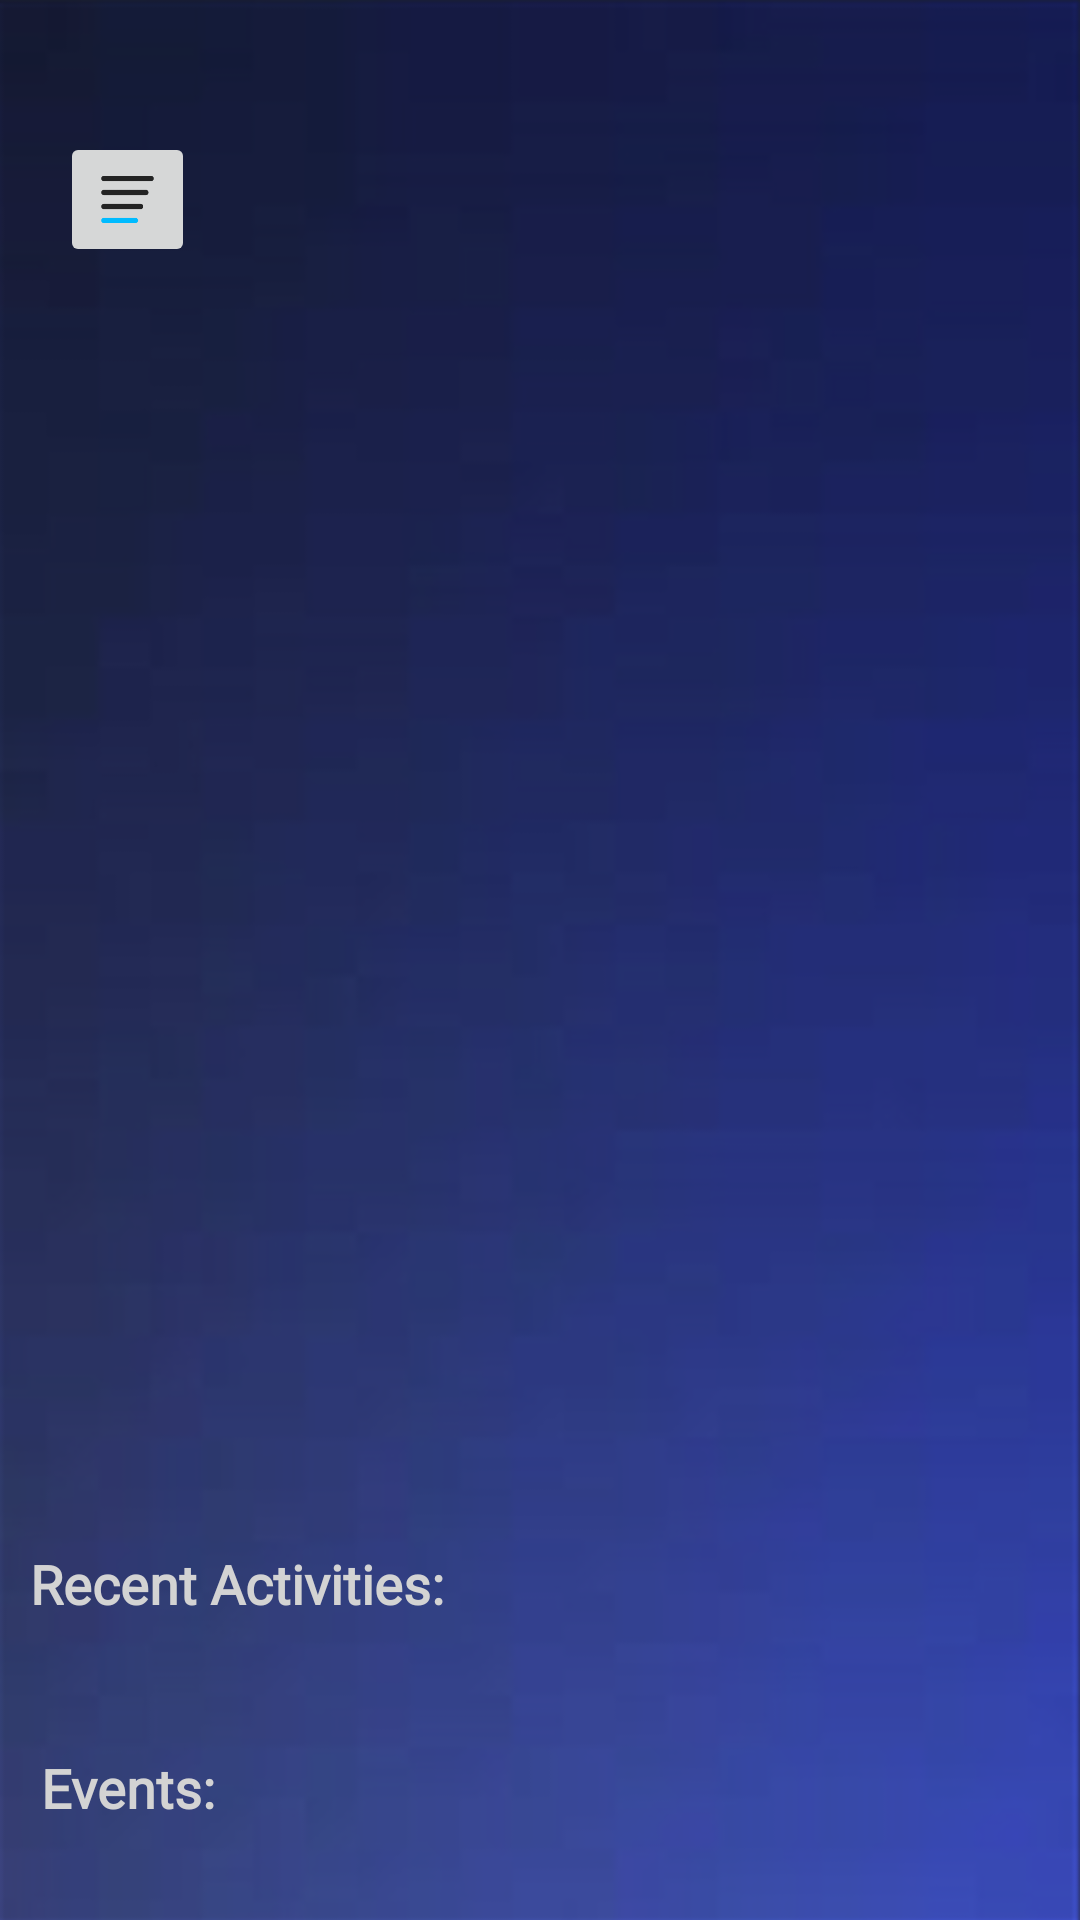

Where to tap for icons on this 1080px×1920px app screen, as (x=x, y=y):
menu: (x=127, y=199)
